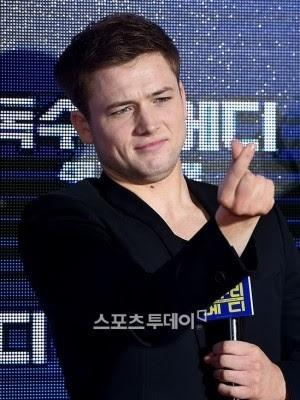heart gesture: (229, 137, 256, 171)
